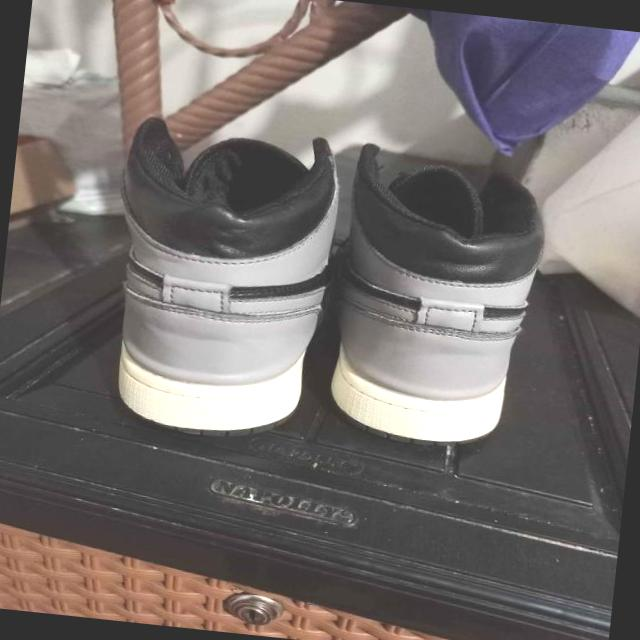nike_fake_jordan: (100, 117, 352, 449), (310, 136, 560, 452)
